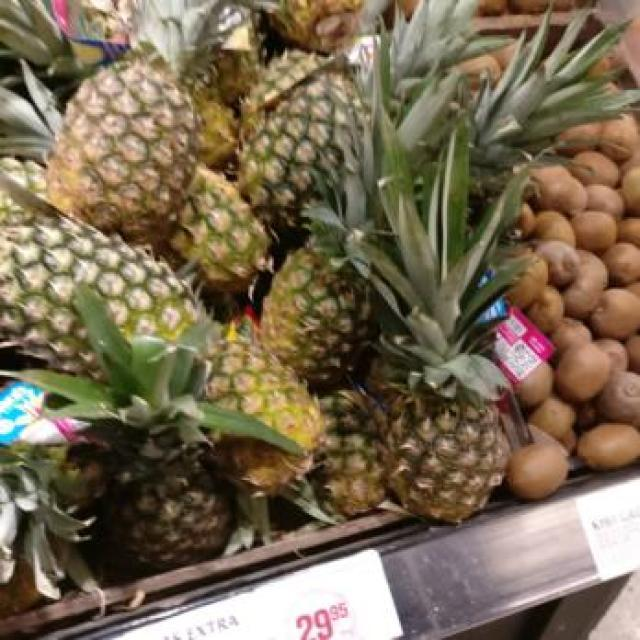pineapple: (12, 288, 300, 576), (345, 114, 520, 522), (49, 1, 226, 247), (0, 191, 202, 372), (238, 50, 366, 243), (260, 236, 376, 388), (206, 325, 324, 449), (170, 164, 270, 292), (311, 390, 385, 517), (391, 110, 441, 192)
